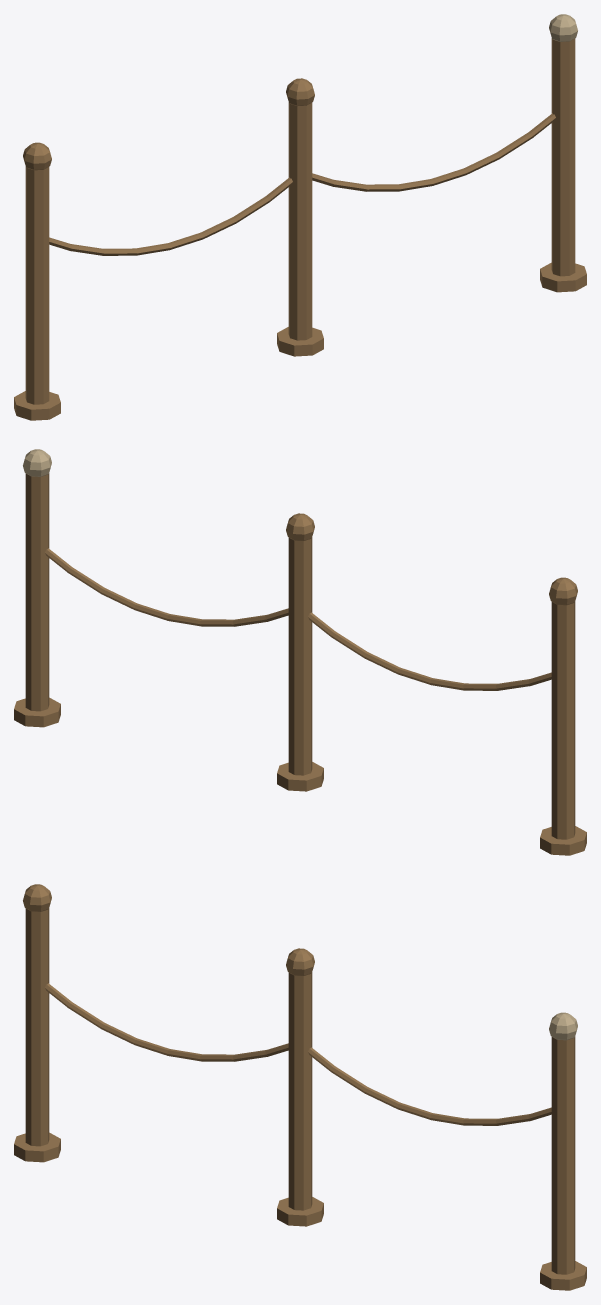
File: rope_barrier.glb
The picture shows the model from 3 angles, top to bottom: view 1: azimuth 30°, elevation 25°; view 2: azimuth 150°, elevation 25°; view 3: azimuth 330°, elevation 25°; orthographic projection.
Visible parts, largest first — view 1: rope_barrier; view 2: rope_barrier; view 3: rope_barrier.
Part boxes in pixels (<box>): rope_barrier: <box>14,14,586,420</box>; rope_barrier: <box>14,449,586,855</box>; rope_barrier: <box>14,884,586,1290</box>.
Size of the model in its own units: 2.16 by 0.97 by 0.16.
